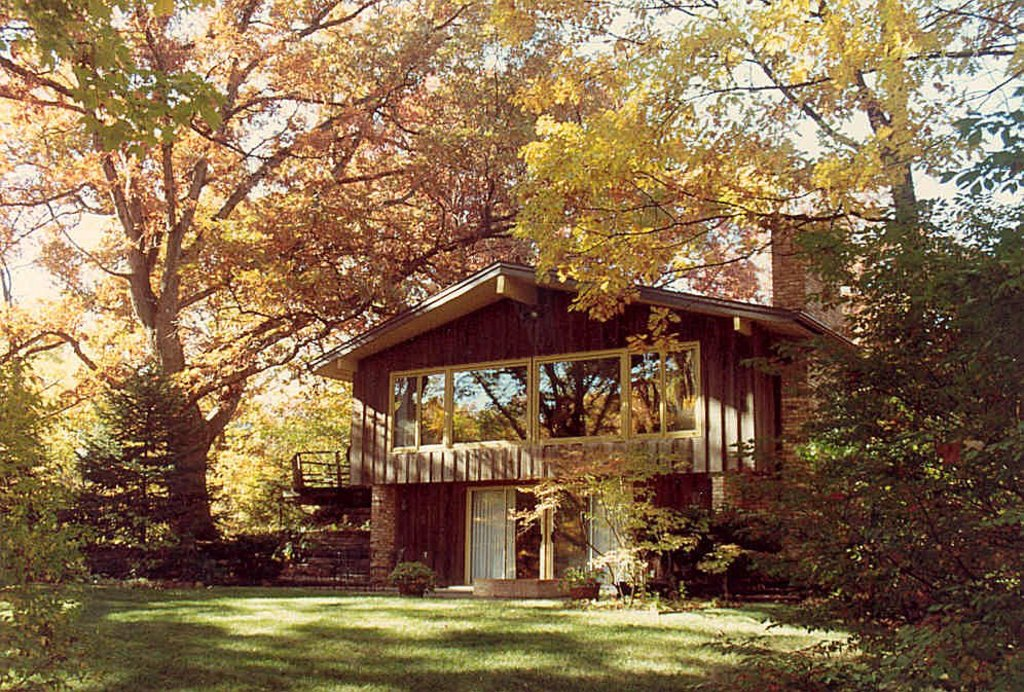Tree: (0, 0, 1022, 690)
